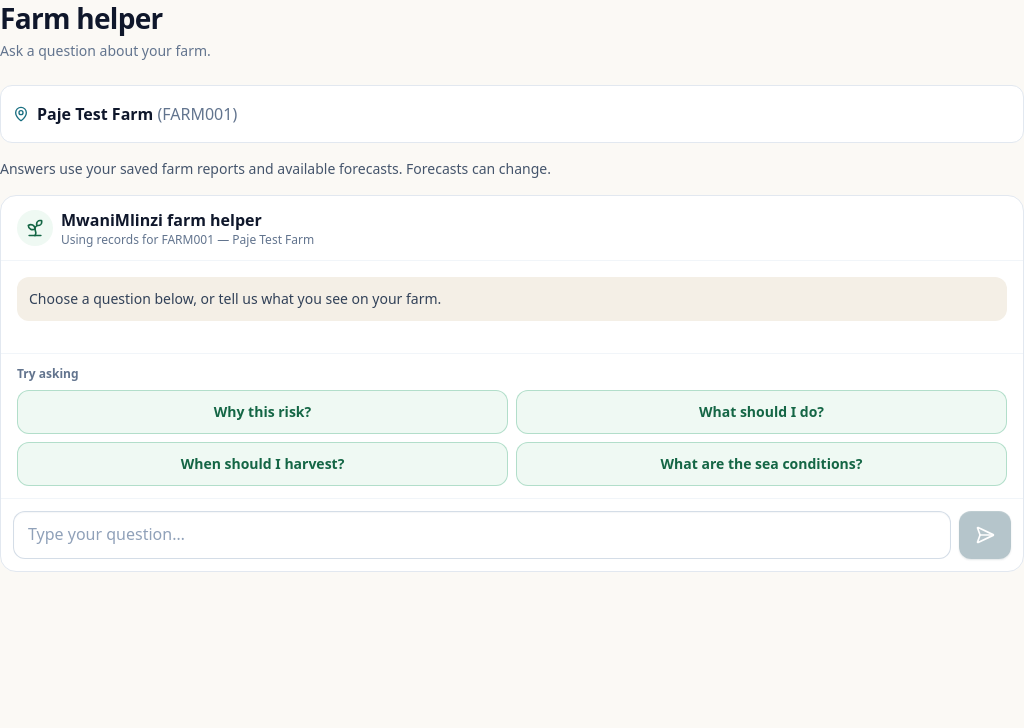
Farm assistant › sends a suggested question and renders the reply, provenance and approved action
Click the button "What should I do?": (762, 412) [516,390,1007,434]
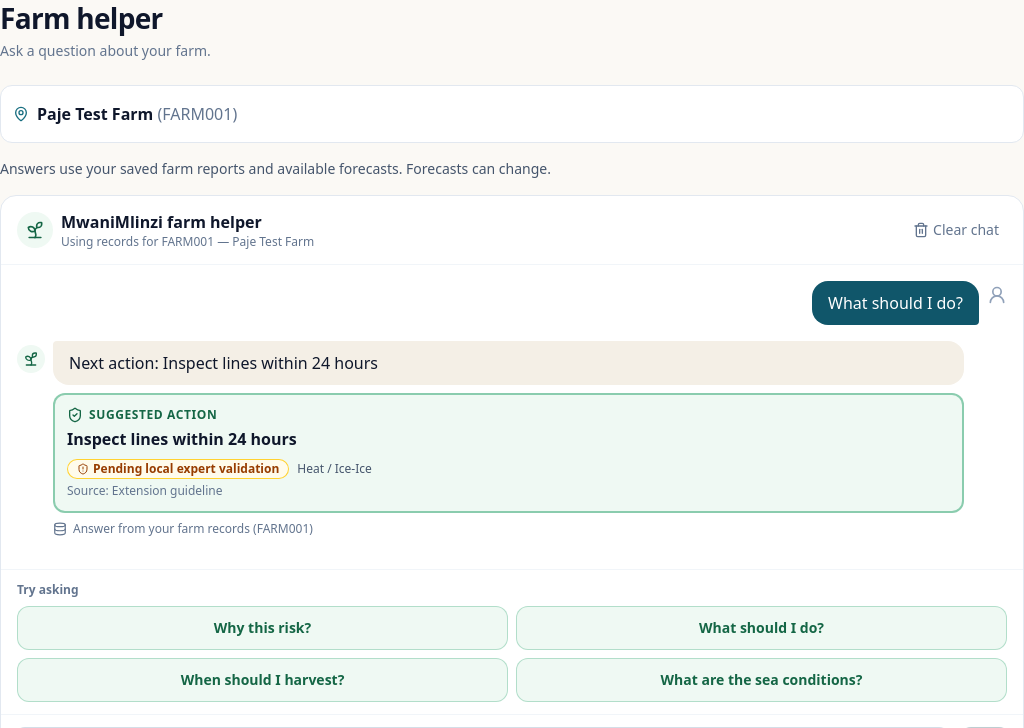
Expected: the text "Next action: Inspect lines within 24 hours" is shown, [69,352,378,374]
Expected: the text "Suggested action" is shown, [67,406,217,423]
Expected: the text "Pending local expert validation" is shown, [93,461,279,477]
